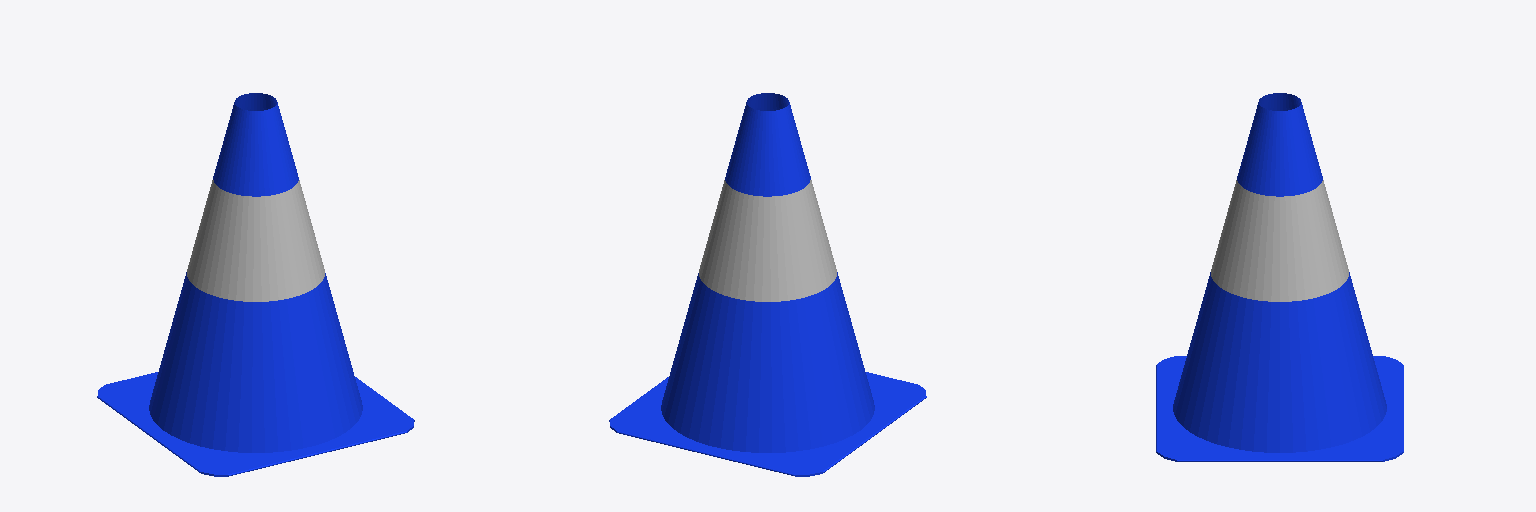
The model's file is blue_cone.obj.
3 views of the same model, side by side, from view 1: azimuth 30°, elevation 25°; view 2: azimuth 150°, elevation 25°; view 3: azimuth 270°, elevation 25° (orthographic).
Parts seen in each view (by area): view 1: Boole; view 2: Boole; view 3: Boole.
Boxes of the visible parts, box(x1,y1,x2,y2) form: Boole: box(97, 93, 414, 476); Boole: box(609, 93, 926, 476); Boole: box(1156, 93, 1403, 461).
Bounding box in the file's own units: 2200 × 3019 × 2200.